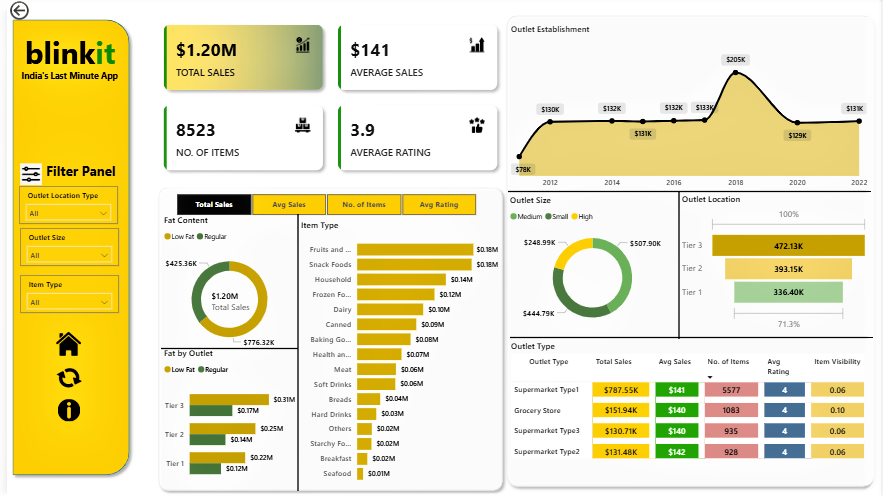

This screenshot's page, from the dashboard's own definition file:
{"tool":"powerbi","page":{"name":"Page 1","canvas":[1400,800],"ordinal":0},"visuals":[{"type":"shape","box":[0,25.7,205.8,749.6],"z":0},{"type":"textbox","box":[16.5,49.6,170.9,97.4],"z":1000},{"type":"textbox","box":[14.7,110.2,172.7,71.7],"z":2000},{"type":"cardVisual","fields":{"Data":["BlinkIT Grocery Data.Total Sales","BlinkIT Grocery Data.Average Sales","BlinkIT Grocery Data.Number of Items","BlinkIT Grocery Data.Average Rating"]},"box":[234.5,25.7,570.3,269.9],"z":3000},{"type":"shape","box":[234.5,295.6,570.3,504.4],"z":4000},{"type":"donutChart","title":"Fat Content","fields":{"Y":["BlinkIT Grocery Data.Total Sales"],"Category":["BlinkIT Grocery Data.Item Fat Content"]},"box":[247.4,347,220.1,229.7],"z":5000},{"type":"slicer","fields":{"Values":["Matrics.Matrics"]},"box":[247.4,308.4,530.1,46.6],"z":6000},{"type":"cardVisual","fields":{"Data":["BlinkIT Grocery Data.Total Sales"]},"box":[311.6,445,138.2,83.5],"z":7000},{"type":"clusteredBarChart","title":"Fat by Outlet","fields":{"Y":["BlinkIT Grocery Data.Total Sales"],"Category":["BlinkIT Grocery Data.Outlet Location Type"],"Series":["BlinkIT Grocery Data.Item Fat Content"]},"box":[247.4,560.6,220.1,229.7],"z":8000},{"type":"shape","box":[247.4,526.9,220.1,72.3],"z":9000},{"type":"shape","box":[448.2,347,38.6,445],"z":10000},{"type":"barChart","title":"Item Type","fields":{"Y":["BlinkIT Grocery Data.Total Sales"],"Category":["BlinkIT Grocery Data.Item Type"]},"box":[467.5,355,326.1,433.7],"z":11000},{"type":"shape","box":[792.8,19.3,607.2,774.3],"z":12000},{"type":"lineChart","title":"Outlet Establishment","fields":{"Y":["BlinkIT Grocery Data.Total Sales"],"Category":["BlinkIT Grocery Data.Outlet Establishment Year"]},"box":[804.8,40.2,583.1,274.7],"z":13000},{"type":"shape","box":[804.8,274.7,583.1,72.3],"z":14000},{"type":"donutChart","title":"Outlet Size","fields":{"Y":["BlinkIT Grocery Data.Total Sales"],"Category":["BlinkIT Grocery Data.Outlet Size"]},"box":[803.2,314.9,274.7,224.9],"z":15000},{"type":"shape","box":[1061.8,310,35.3,237.8],"z":16000},{"type":"funnel","title":"Outlet Location","fields":{"Category":["BlinkIT Grocery Data.Outlet Location Type"],"Y":["Sum(BlinkIT Grocery Data.Sales)"]},"box":[1079.5,313.3,308.4,226.5],"z":17000},{"type":"shape","box":[808,509.2,583.1,72.3],"z":18000},{"type":"pivotTable","title":"Outlet Type","fields":{"Rows":["BlinkIT Grocery Data.Outlet Type"],"Values":["BlinkIT Grocery Data.Total Sales","BlinkIT Grocery Data.Avg Sales","BlinkIT Grocery Data.No. of Items","BlinkIT Grocery Data.Avg Rating","Avg(BlinkIT Grocery Data.Item Visibility)"]},"box":[804.8,549.4,583.1,228.1],"z":19000},{"type":"actionButton","box":[0,0,100,40],"z":20000},{"type":"slicer","fields":{"Values":["BlinkIT Grocery Data.Outlet Location Type"]},"box":[19.3,302,159,61],"z":20001},{"type":"slicer","fields":{"Values":["BlinkIT Grocery Data.Outlet Size"]},"box":[20.9,369.5,159,61],"z":20002},{"type":"slicer","fields":{"Values":["BlinkIT Grocery Data.Item Type"]},"box":[20.9,445,159,61],"z":20003},{"type":"image","box":[16.1,258.6,45,48.2],"z":20004},{"type":"textbox","box":[49.8,258.6,138.2,48.2],"z":20005},{"type":"image","box":[77.1,637.8,45,49.8],"z":20007},{"type":"image","box":[49.8,560.6,99.6,99.6],"z":20008},{"type":"image","box":[73.9,528.5,49.8,53],"z":20009}]}

Visuals, with their boxes in screenshot pixels (x1, y1, x2, y2), scaled from the page's 1400x800 canvas onto the 883x496 screenshot:
shape: (0,16,130,481)
textbox: (10,31,118,91)
textbox: (9,68,118,113)
cardVisual - BlinkIT Grocery Data.Total Sales x BlinkIT Grocery Data.Average Sales: (148,16,508,183)
shape: (148,183,508,495)
"Fat Content" donutChart: (156,215,295,358)
slicer - Matrics.Matrics: (156,191,490,220)
cardVisual - BlinkIT Grocery Data.Total Sales: (197,276,284,328)
"Fat by Outlet" clusteredBarChart: (156,348,295,490)
shape: (156,327,295,372)
shape: (283,215,307,491)
"Item Type" barChart: (295,220,501,489)
shape: (500,12,882,492)
"Outlet Establishment" lineChart: (508,25,875,195)
shape: (508,170,875,215)
"Outlet Size" donutChart: (507,195,680,335)
shape: (670,192,692,340)
"Outlet Location" funnel: (681,194,875,335)
shape: (510,316,877,361)
"Outlet Type" pivotTable: (508,341,875,482)
actionButton: (0,0,63,25)
slicer - BlinkIT Grocery Data.Outlet Location Type: (12,187,112,225)
slicer - BlinkIT Grocery Data.Outlet Size: (13,229,113,267)
slicer - BlinkIT Grocery Data.Item Type: (13,276,113,314)
image: (10,160,39,190)
textbox: (31,160,119,190)
image: (49,395,77,426)
image: (31,348,94,409)
image: (47,328,78,361)
